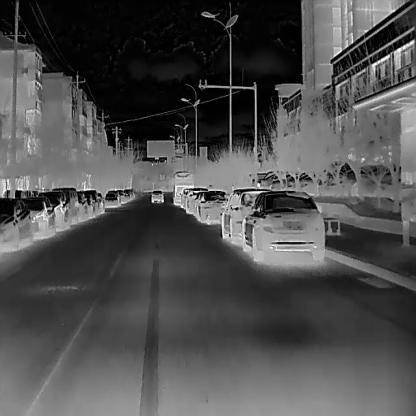bus: (172, 170, 192, 206)
car: (242, 188, 324, 266), (221, 186, 266, 244), (1, 195, 30, 253), (19, 197, 54, 237), (37, 188, 68, 228), (192, 188, 225, 224), (54, 188, 77, 228), (184, 185, 201, 214), (83, 188, 98, 217), (74, 191, 86, 220), (92, 188, 103, 214), (105, 188, 118, 208), (178, 188, 188, 206), (151, 189, 162, 203)
